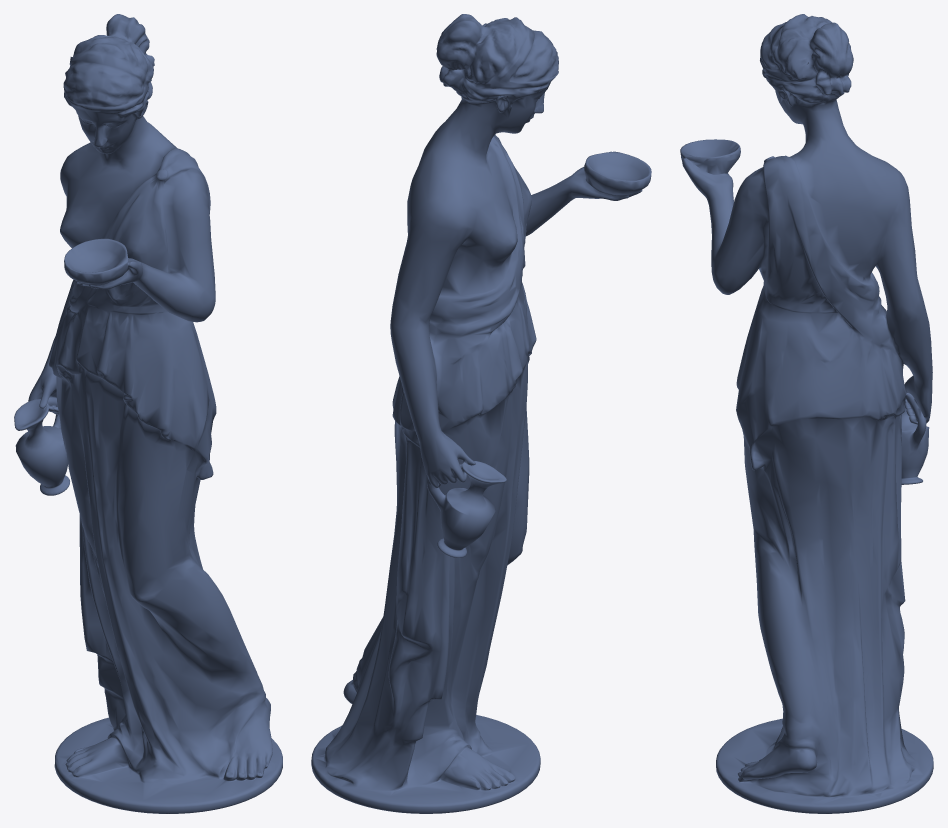
File: Statue2.FBX
3 views of the same model, side by side, from view 1: azimuth 30°, elevation 25°; view 2: azimuth 150°, elevation 25°; view 3: azimuth 270°, elevation 25° (orthographic). The views are drawn at different scales.
Visible parts, largest first — view 1: Statue2_LOD0; view 2: Statue2_LOD0; view 3: Statue2_LOD0.
Part boxes in pixels (x1,y1,x2,y2): Statue2_LOD0: (14,14,282,813); Statue2_LOD0: (311,14,651,813); Statue2_LOD0: (680,14,933,813).
Size of what is drawn, in the model's own units: 59.77 by 167 by 53.03.
